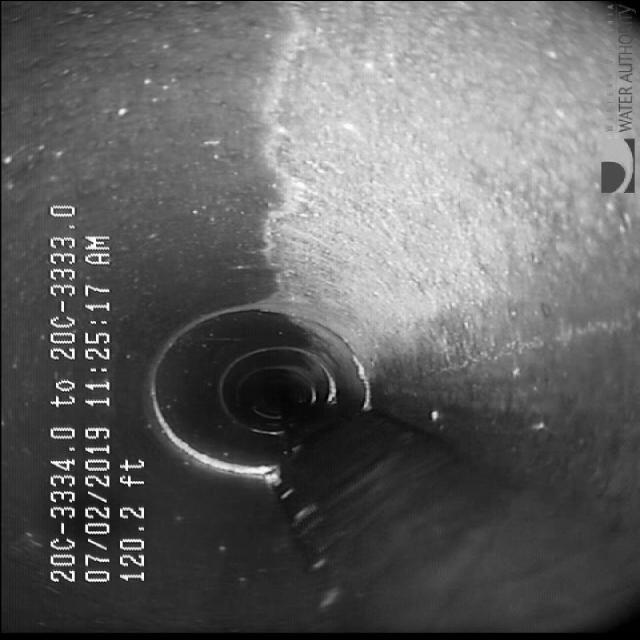Crack: (248, 28, 342, 300)
